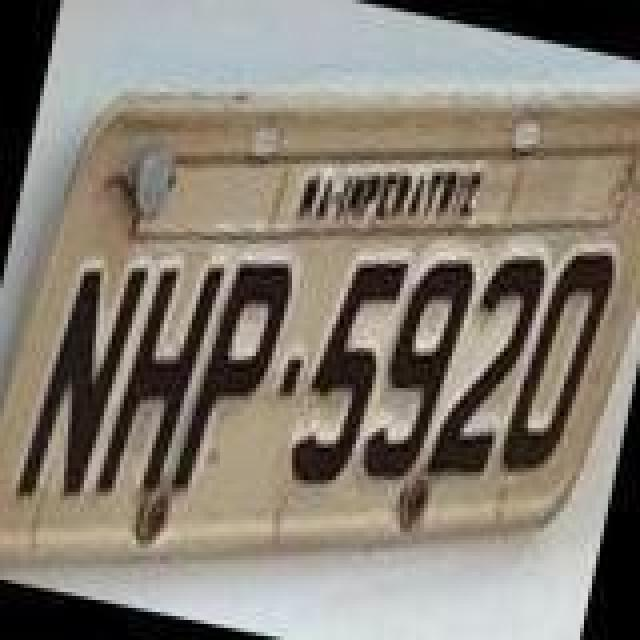2: (422, 242, 554, 494)
5: (278, 244, 410, 500)
9: (354, 244, 478, 492)
H: (92, 244, 228, 516)
N: (8, 248, 152, 520)
O: (498, 236, 622, 484)
P: (166, 244, 298, 508)
